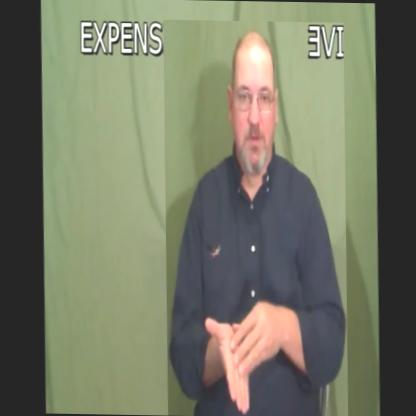Expensive: (155, 19, 352, 416)
